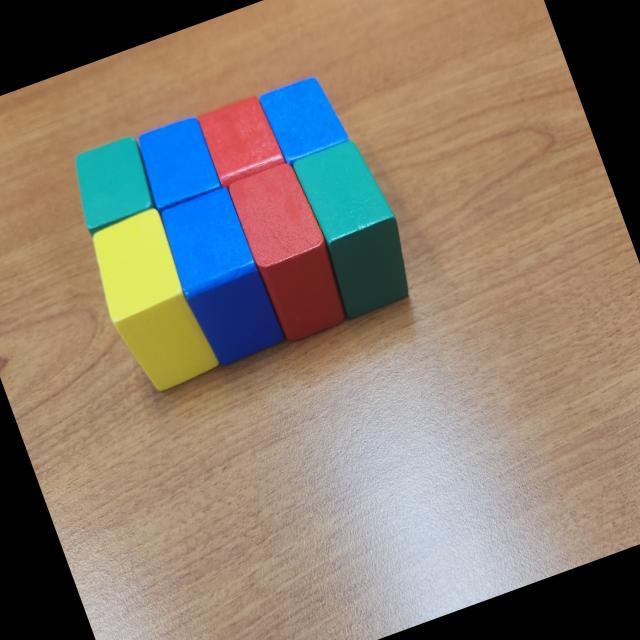blue: (154, 183, 288, 372), (130, 113, 226, 220), (256, 70, 352, 168)
green: (290, 134, 424, 320), (62, 132, 165, 235)
red: (226, 158, 352, 344), (195, 92, 288, 190)
yellow: (81, 206, 220, 400)
